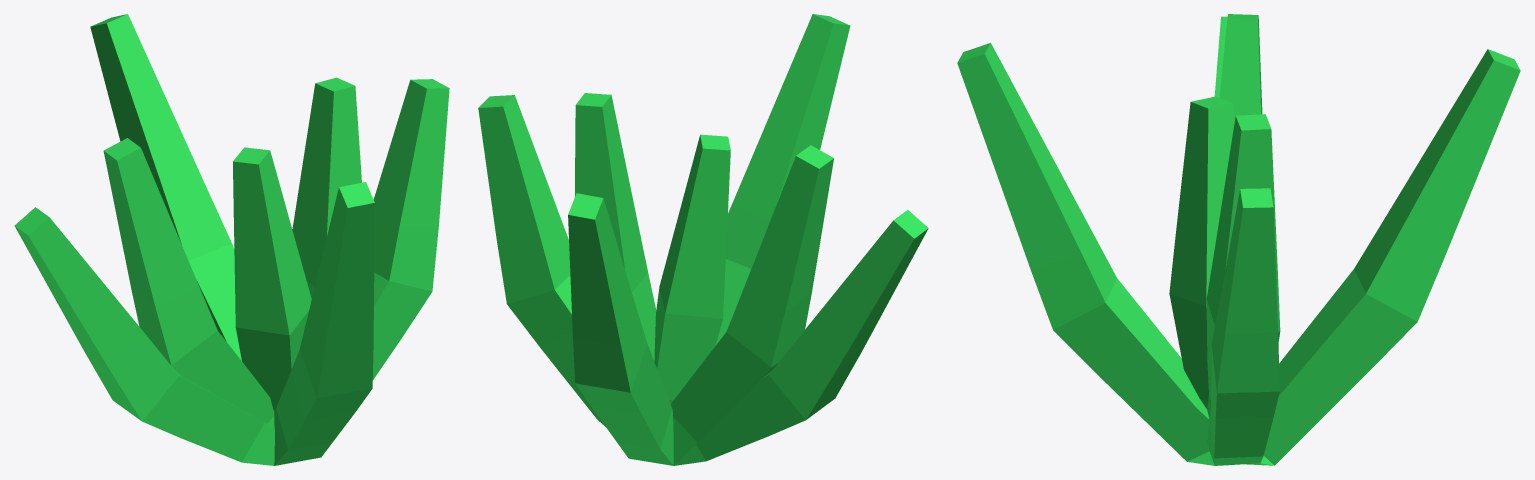
The model's file is grass.fbx.
The picture shows the model from 3 angles, left to right: view 1: azimuth 30°, elevation 25°; view 2: azimuth 150°, elevation 25°; view 3: azimuth 270°, elevation 25°; orthographic projection. The views are drawn at different scales.
Parts seen in each view (by area): view 1: Cube; view 2: Cube; view 3: Cube.
Boxes of the visible parts, x1,y1,x2,y2 form: Cube: (14,14,449,465); Cube: (478,14,928,465); Cube: (957,14,1520,465).
Bounding box in the file's own units: 114 × 91.67 × 121.
